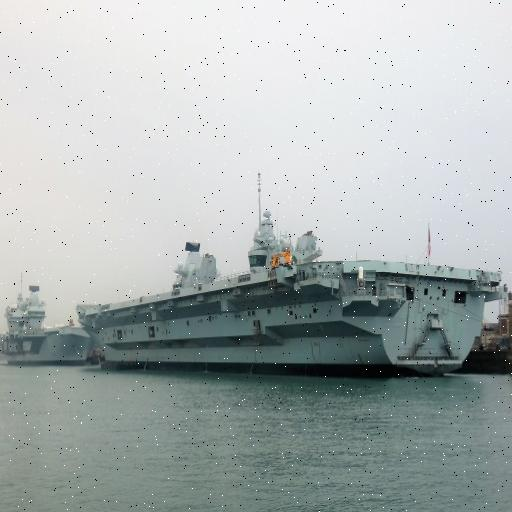Portanaves: (77, 166, 500, 382), (1, 283, 100, 366)
